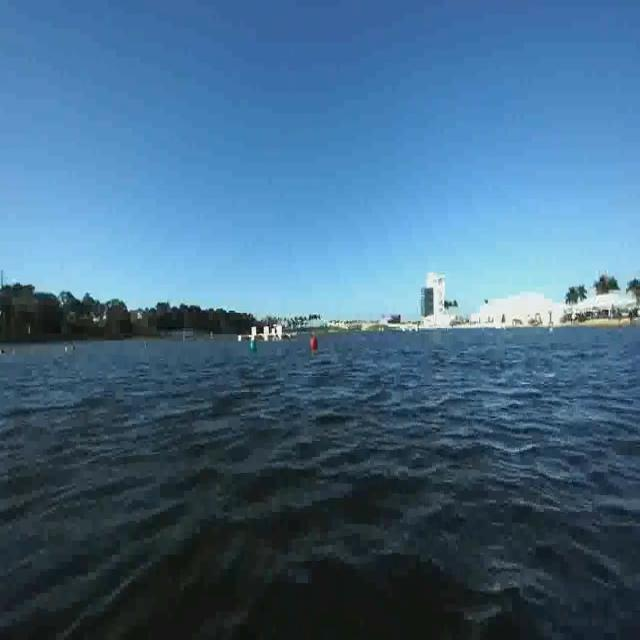green-buoy: (250, 342, 256, 352)
red-buoy: (312, 336, 318, 352)
